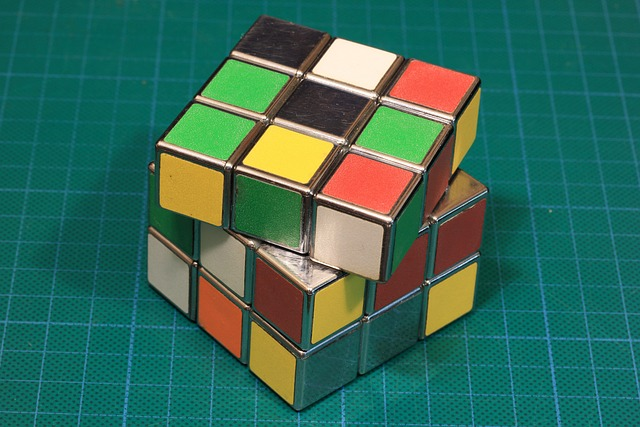cube: (145, 14, 490, 413)
